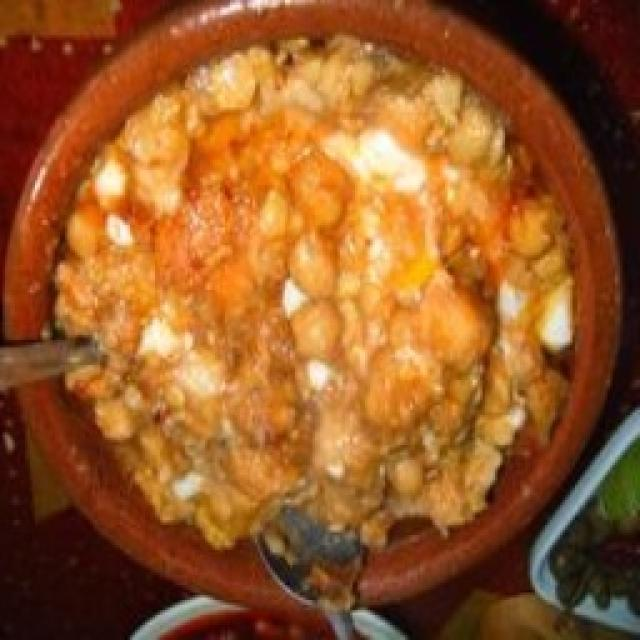Lablabi: (0, 0, 628, 635)
